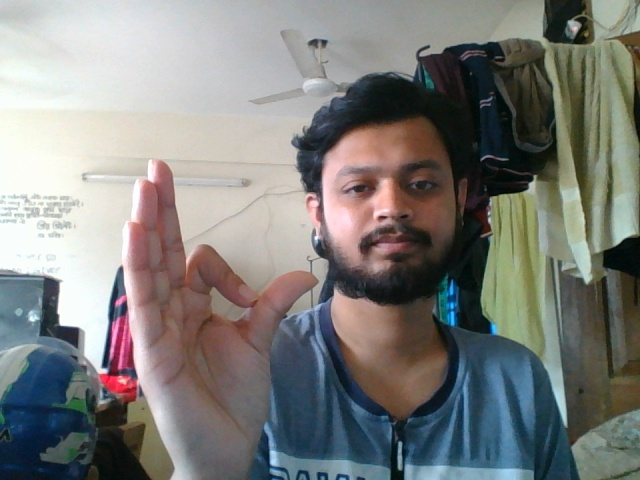uo: (117, 155, 324, 472)
